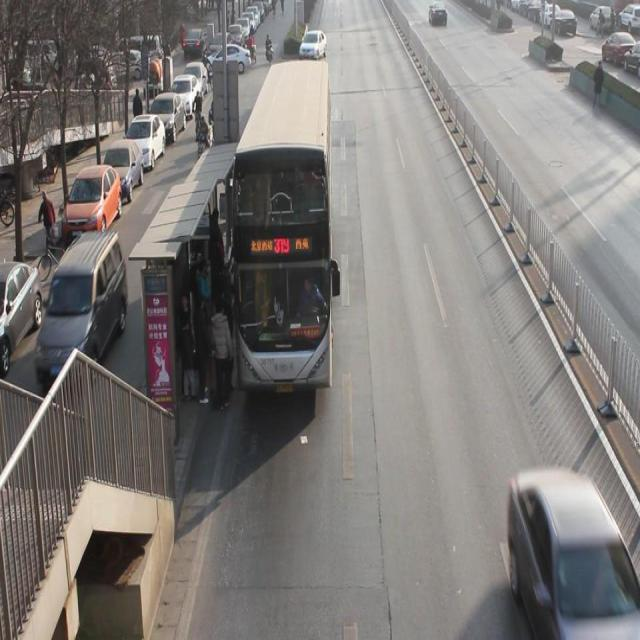car: (506, 476, 640, 630), (305, 29, 329, 62)
van: (233, 63, 332, 390)
